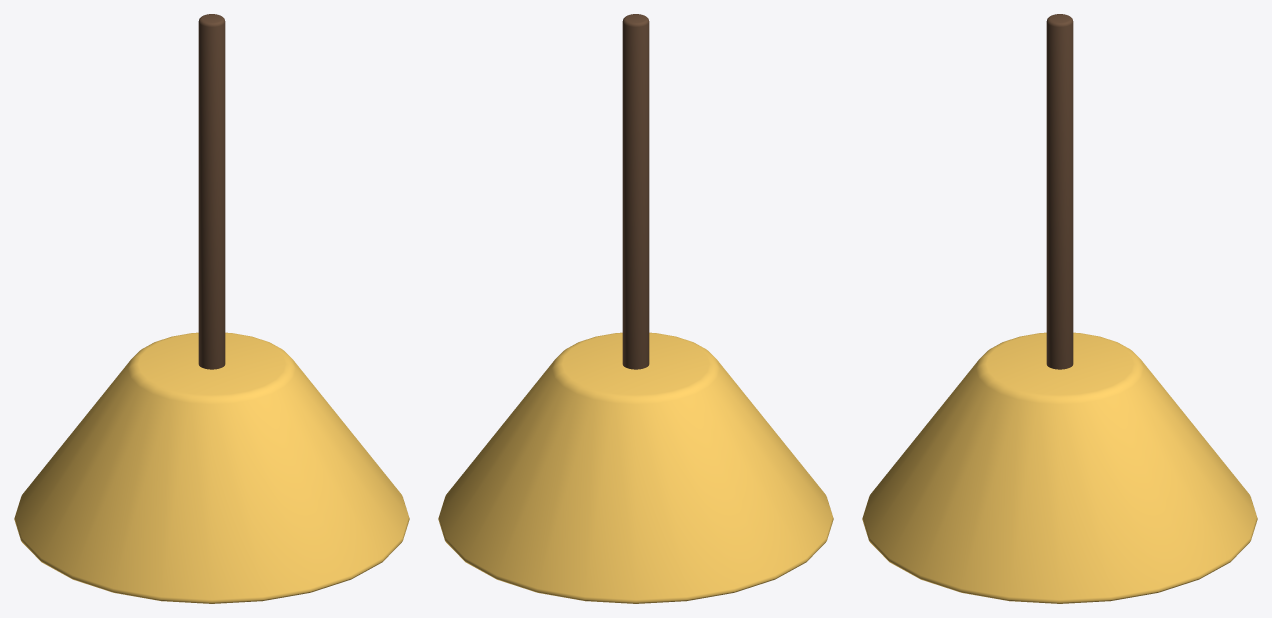
The model's file is lamp_ceiling.glb.
3 views of the same model, side by side, from view 1: azimuth 30°, elevation 25°; view 2: azimuth 150°, elevation 25°; view 3: azimuth 270°, elevation 25° (orthographic).
Visible parts, largest first — view 1: lamp_ceiling; view 2: lamp_ceiling; view 3: lamp_ceiling.
Boxes of the visible parts, <box> form: lamp_ceiling: <box>14,14,409,603</box>; lamp_ceiling: <box>438,14,833,603</box>; lamp_ceiling: <box>862,14,1257,603</box>.
Size of the model in its own units: 0.5916 by 0.83 by 0.5916.
